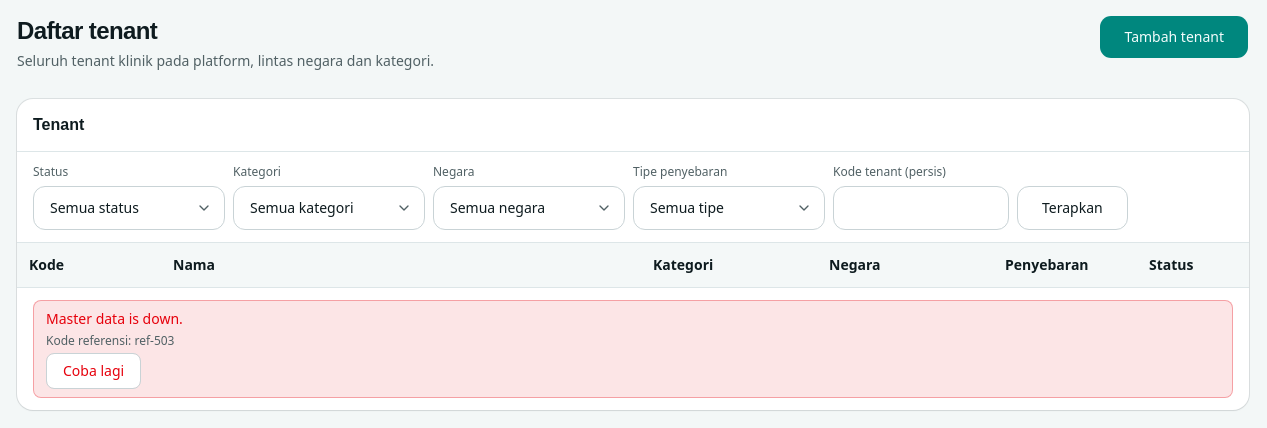
Test case: TenantListPage states (D13) › shows an alert with the reference id and a retry button on an error, and no automatic retry
expect the message shows "Master data is down.": met, box [46,308,183,328]
expect the message shows "Kode referensi: ref-503": met, box [46,332,174,348]
Click the button "Coba lagi" at (94, 370), box [46,352,141,388]
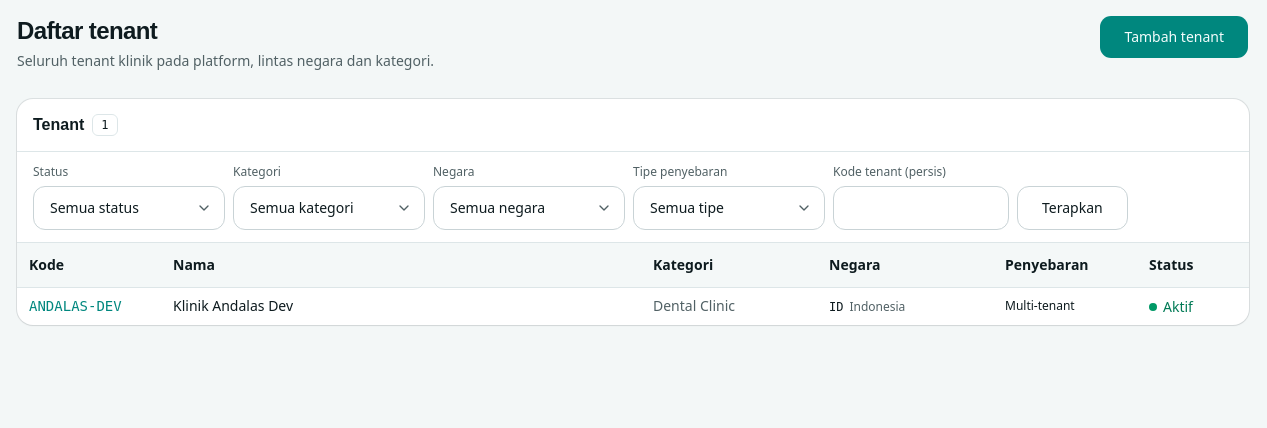
expect the link "ANDALAS-DEV" is shown: met, box [29,298,122,314]
